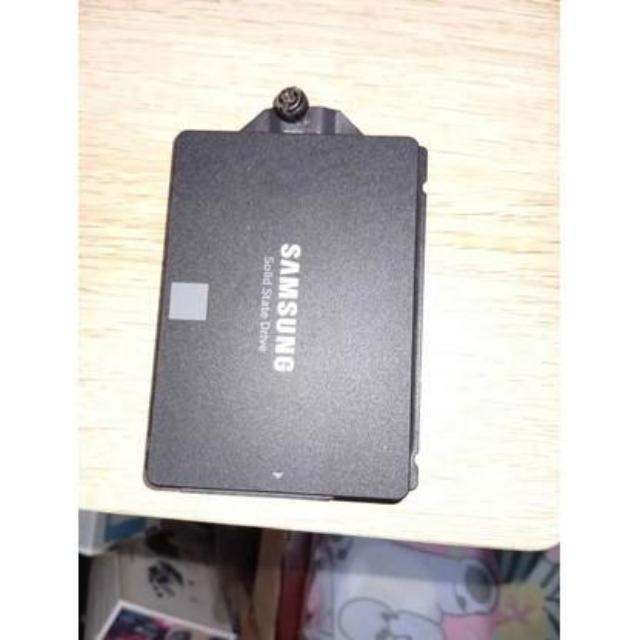DISK: (141, 124, 427, 510)
